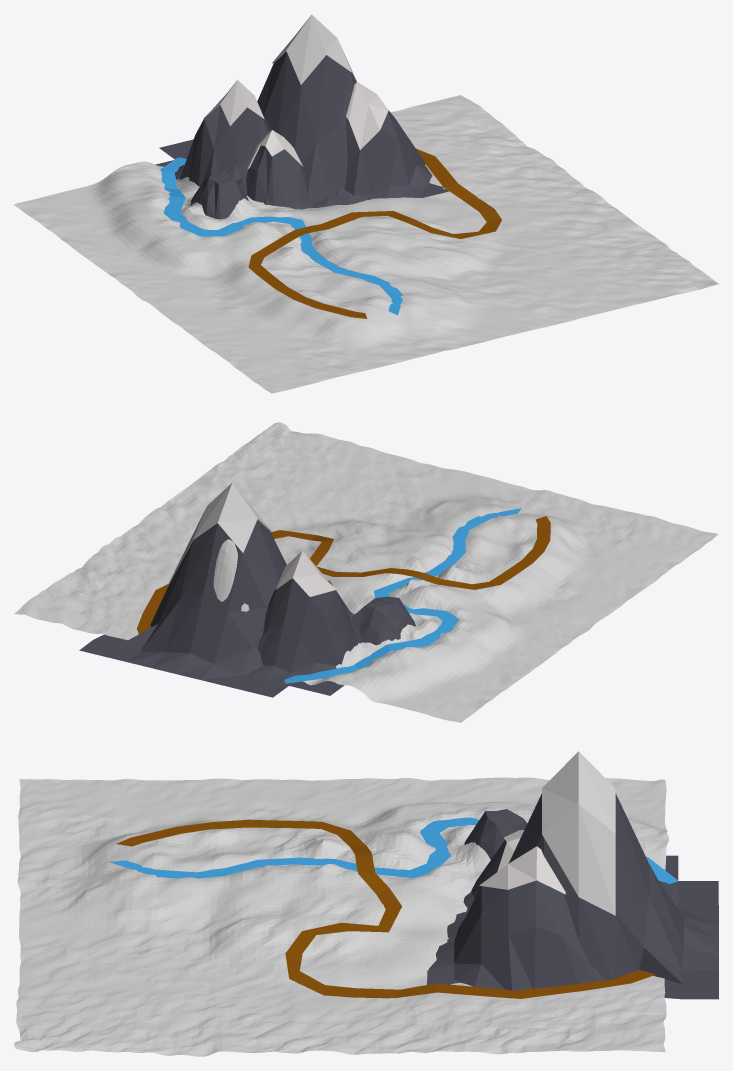
Rendered from Map_Level_2_ICE.fbx.
3 views of the same model, one above another, from view 1: azimuth 30°, elevation 25°; view 2: azimuth 150°, elevation 25°; view 3: azimuth 270°, elevation 25° (orthographic). The views are drawn at different scales.
Visible parts, largest first — view 1: Plane, Plane.002, Plane.001, Plane.004, Plane.003, Plane.005, Plane.006; view 2: Plane, Plane.002, Plane.003, Plane.001, Plane.006; view 3: Plane, Plane.002, Plane.004, Plane.001, Plane.006, Plane.005, Plane.003.
Part boxes in pixels (left/top/right/bottom): Plane: left=14, top=95, right=718, bottom=393; Plane.002: left=159, top=14, right=443, bottom=207; Plane.001: left=160, top=148, right=501, bottom=318; Plane.004: left=336, top=81, right=449, bottom=199; Plane.003: left=155, top=80, right=269, bottom=186; Plane.005: left=246, top=130, right=313, bottom=209; Plane.006: left=190, top=165, right=248, bottom=219; Plane: left=14, top=422, right=718, bottom=722; Plane.002: left=79, top=482, right=292, bottom=697; Plane.003: left=245, top=550, right=362, bottom=695; Plane.001: left=136, top=508, right=550, bottom=683; Plane.006: left=350, top=596, right=415, bottom=645; Plane: left=14, top=777, right=669, bottom=1056; Plane.002: left=438, top=751, right=718, bottom=999; Plane.004: left=427, top=846, right=604, bottom=990; Plane.001: left=109, top=817, right=678, bottom=998; Plane.006: left=464, top=809, right=527, bottom=859; Plane.005: left=463, top=830, right=524, bottom=911; Plane.003: left=659, top=855, right=678, bottom=906.
Size of the model in its own units: 4539 by 1484 by 4915.
